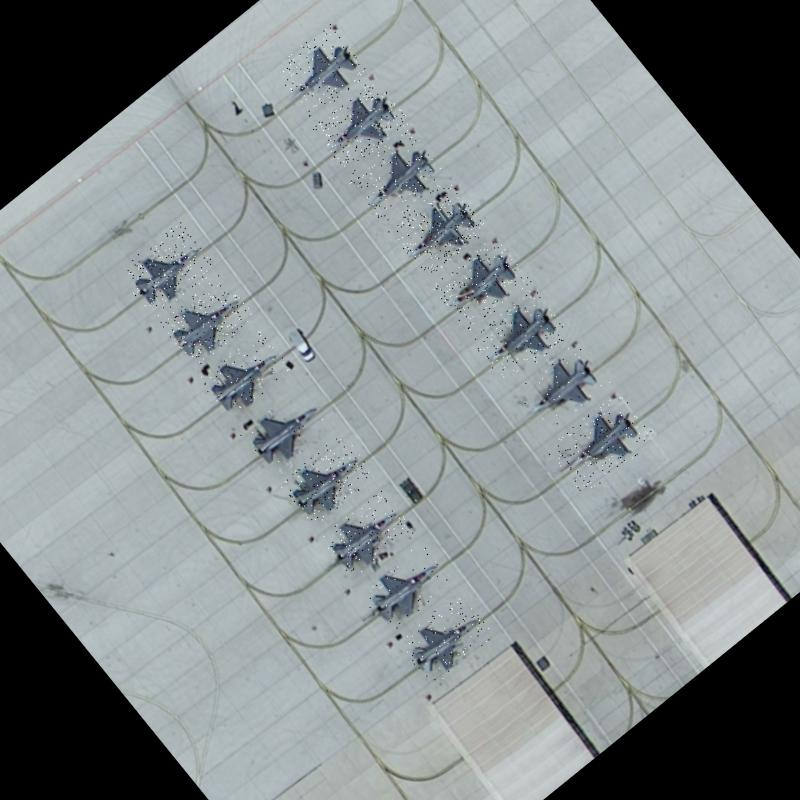A5: (545, 389, 657, 496), (344, 125, 453, 232), (115, 219, 218, 320), (469, 286, 571, 386), (270, 21, 370, 119), (396, 590, 496, 688), (310, 76, 411, 173), (431, 235, 531, 332), (389, 182, 489, 278), (158, 272, 258, 368), (237, 380, 337, 476), (356, 537, 456, 633), (512, 339, 612, 434), (278, 432, 377, 526), (198, 328, 294, 420), (320, 488, 415, 580)
